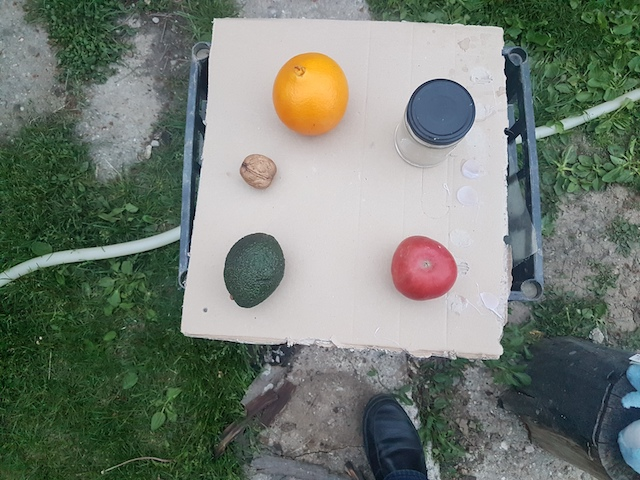apple: (389, 235, 461, 302)
avocado: (222, 233, 286, 308)
nut: (239, 151, 278, 191)
orange: (272, 51, 349, 139)
recipient: (404, 76, 476, 141)
